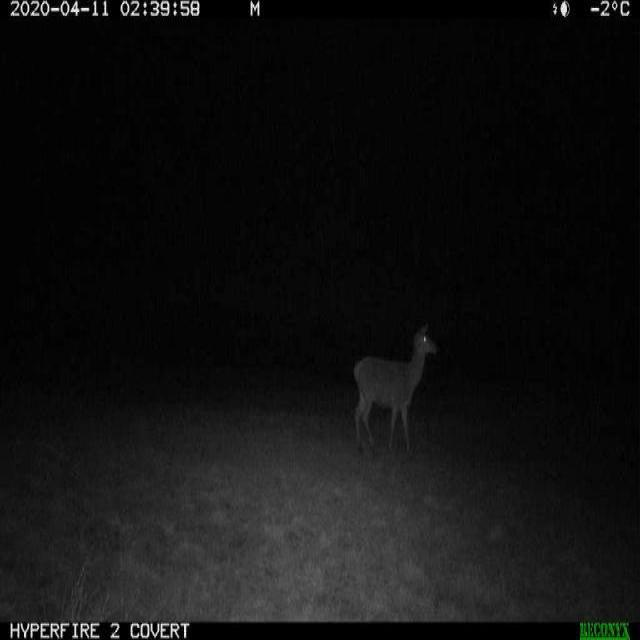deer: (347, 312, 442, 475)
